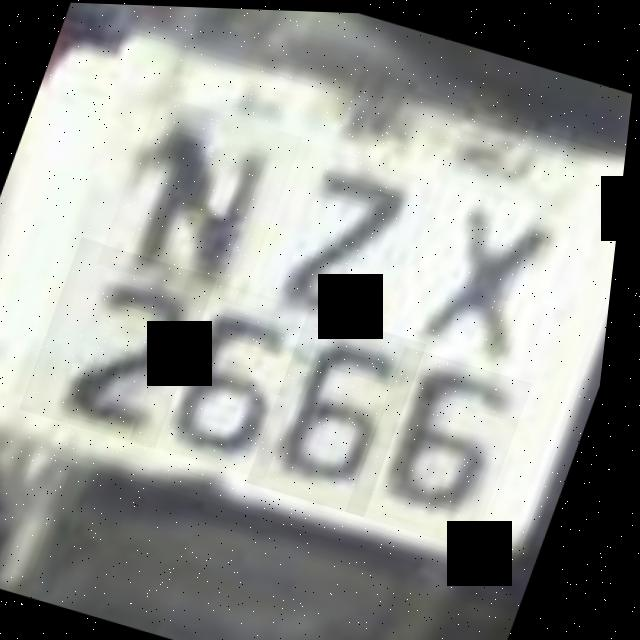2: (24, 235, 226, 450)
6: (136, 270, 335, 478), (353, 341, 544, 546), (254, 306, 437, 515)
N: (99, 92, 308, 305)
X: (395, 178, 583, 376)
Z: (255, 139, 443, 332)
